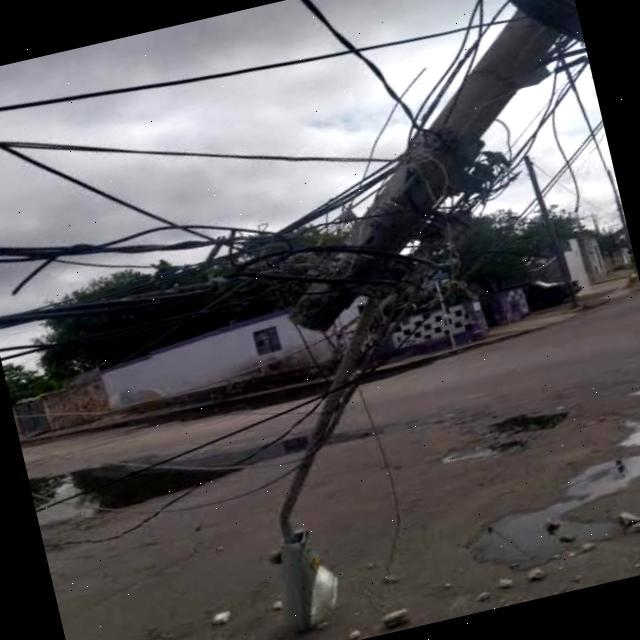Broken Pole: (274, 0, 567, 636)
